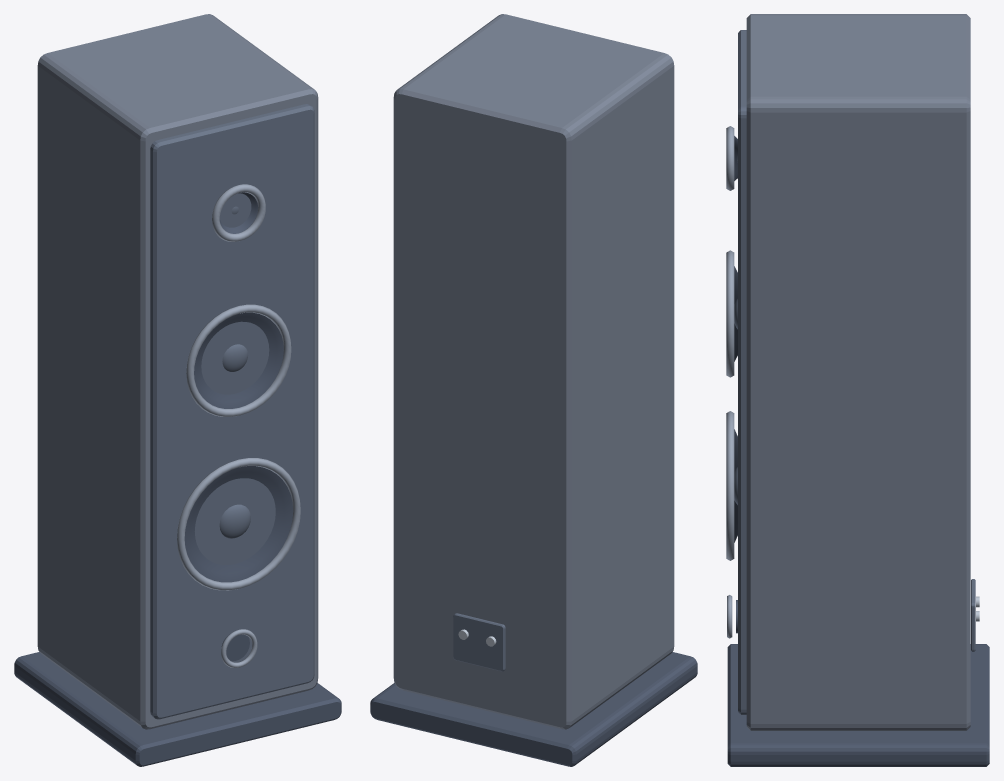
File: 立式音响-lite.glb
3 renders of one model, left to right at view 1: azimuth 30°, elevation 25°; view 2: azimuth 150°, elevation 25°; view 3: azimuth 270°, elevation 25°, orthographic. The views are drawn at different scales.
Visible parts, largest first — view 1: body, dark, accent, soft; view 2: body, accent, dark; view 3: body, accent, dark, soft.
Boxes of the visible parts, left/top/right/bottom form: body: left=37, top=14, right=318, bottom=729; dark: left=150, top=104, right=314, bottom=719; accent: left=14, top=192, right=341, bottom=766; soft: left=177, top=184, right=300, bottom=667; body: left=393, top=14, right=674, bottom=729; accent: left=370, top=652, right=697, bottom=766; dark: left=453, top=613, right=505, bottom=671; body: left=746, top=14, right=970, bottom=730; accent: left=727, top=136, right=989, bottom=766; dark: left=734, top=30, right=975, bottom=714; soft: left=726, top=126, right=734, bottom=638.
Bounding box in the file's own units: 0.33 × 0.97 × 0.3467.
